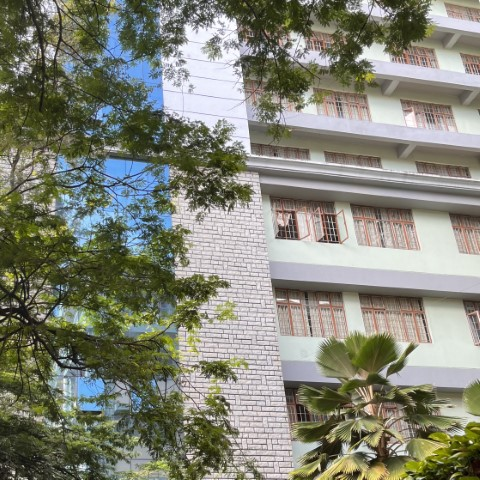Central Block: (148, 10, 480, 480)
